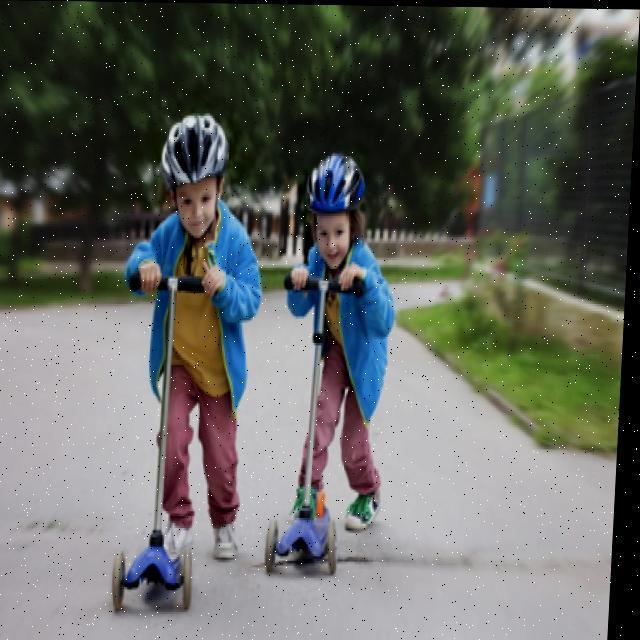Helmet: (157, 103, 230, 244), (296, 147, 372, 270)
